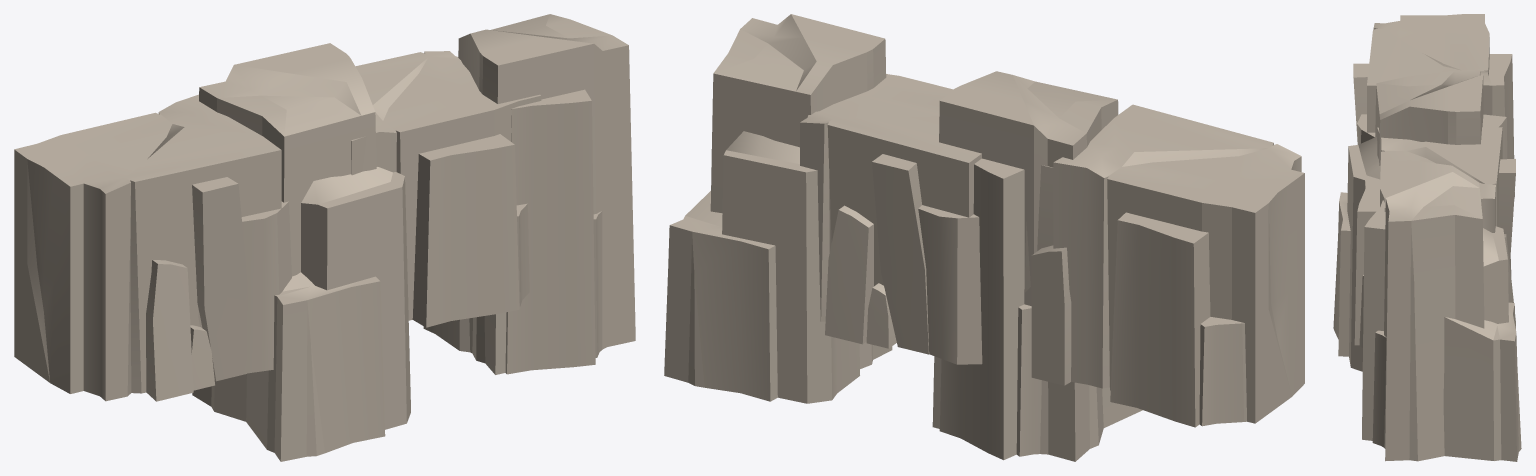
The model's file is Rockwall_A.fbx.
3 renders of one model, left to right at view 1: azimuth 30°, elevation 25°; view 2: azimuth 150°, elevation 25°; view 3: azimuth 270°, elevation 25°, orthographic. The views are drawn at different scales.
Visible parts, largest first — view 1: pCube109; view 2: pCube109; view 3: pCube109.
Boxes of the visible parts, x1,y1,x2,y2 form: pCube109: (14, 14, 635, 461); pCube109: (664, 14, 1304, 461); pCube109: (1333, 14, 1521, 461).
Bounding box in the file's own units: 2755 × 1502 × 993.
